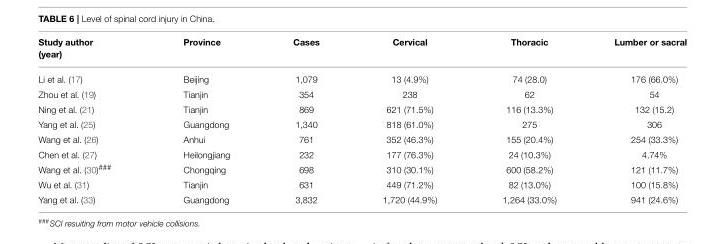table: (37, 37, 686, 204)
table column: (350, 37, 468, 204), (468, 37, 584, 204), (146, 37, 260, 204), (37, 37, 146, 204), (584, 37, 686, 204), (260, 37, 350, 204)
table column header: (37, 37, 686, 66)
table row: (37, 37, 686, 66), (37, 66, 686, 86), (37, 160, 686, 177), (37, 116, 686, 132), (37, 86, 686, 101), (37, 101, 686, 116), (37, 132, 686, 147), (37, 177, 686, 192), (37, 147, 686, 160), (37, 192, 686, 204)
